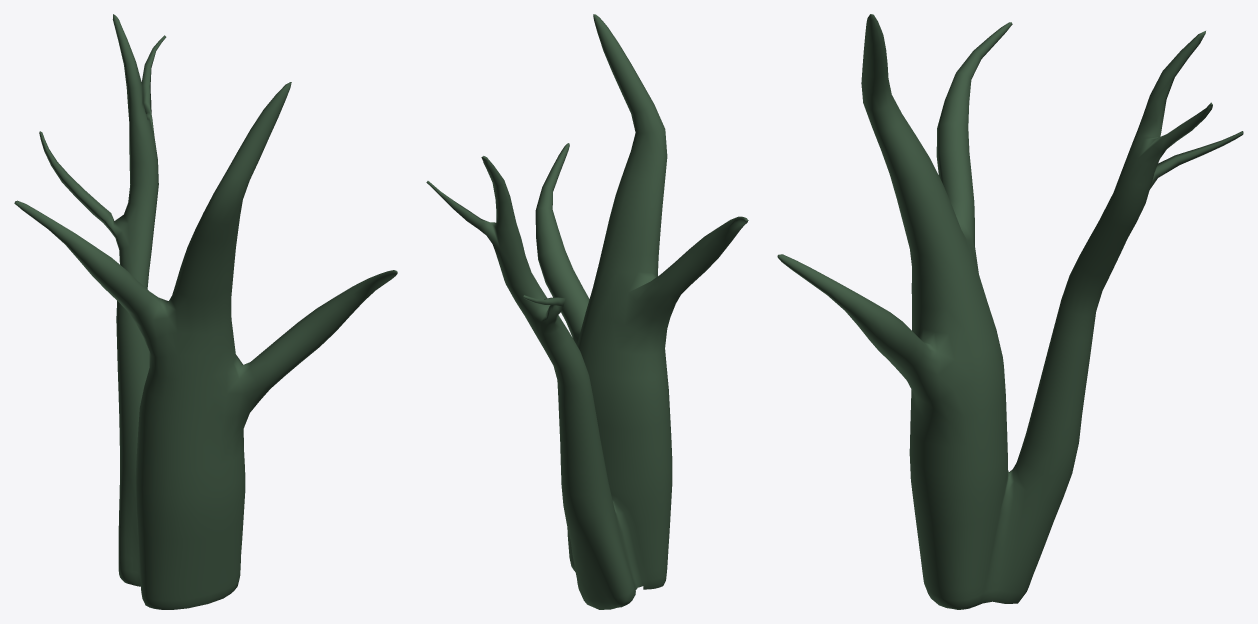
Rendered from Tree2.fbx.
3 renders of one model, left to right at view 1: azimuth 30°, elevation 25°; view 2: azimuth 150°, elevation 25°; view 3: azimuth 270°, elevation 25°, orthographic. The views are drawn at different scales.
Parts seen in each view (by area): view 1: rock1LP:Tree2LP; view 2: rock1LP:Tree2LP; view 3: rock1LP:Tree2LP.
Part boxes in pixels (x1,y1,x2,y2): rock1LP:Tree2LP: [14, 14, 397, 609]; rock1LP:Tree2LP: [426, 14, 748, 609]; rock1LP:Tree2LP: [777, 14, 1243, 609].
Size of the model in its own units: 13.27 by 23.85 by 16.22.
